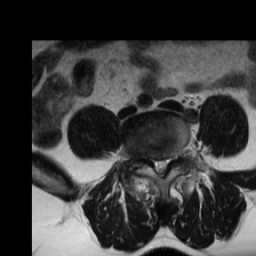CCS_stenosis: (157, 153, 163, 181)
LFS_severe_stenosis: (170, 145, 178, 166)
LLS_stenosis: (163, 152, 170, 174)
RFS_severe_stenosis: (142, 147, 151, 167)
RLS_severe_stenosis: (151, 151, 157, 173)
